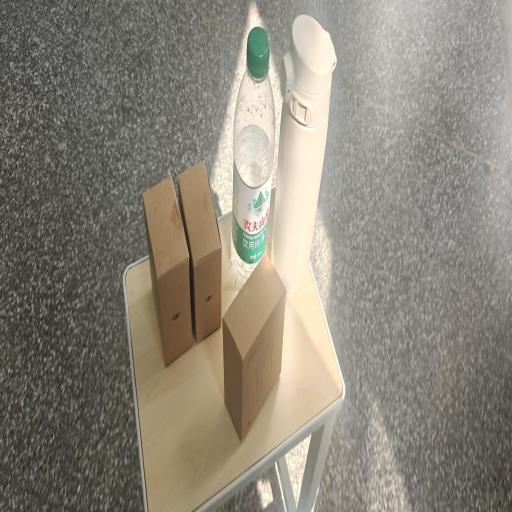bottle: (272, 14, 337, 293), (231, 27, 275, 282)
box: (222, 254, 286, 440), (143, 177, 193, 366), (178, 161, 222, 342)
